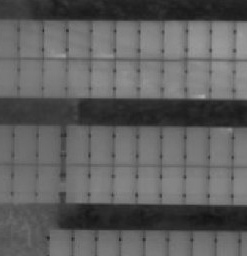solar: (16, 18, 46, 60), (40, 18, 70, 60), (64, 18, 94, 60), (87, 18, 117, 60), (111, 18, 141, 60), (136, 18, 166, 60), (160, 18, 190, 60), (183, 19, 213, 61), (207, 19, 237, 61), (207, 58, 237, 100), (183, 58, 213, 100), (159, 57, 189, 99), (135, 56, 165, 98), (112, 56, 142, 98), (88, 56, 118, 98), (63, 56, 93, 98), (39, 56, 69, 98), (15, 56, 45, 98), (10, 123, 40, 165), (33, 124, 63, 166), (63, 124, 93, 166), (86, 124, 116, 166), (110, 124, 140, 166), (134, 124, 164, 166), (159, 124, 189, 166), (182, 124, 212, 166), (205, 125, 235, 167), (205, 163, 235, 205), (181, 163, 211, 205), (157, 163, 187, 205), (134, 162, 164, 204), (108, 162, 138, 204), (87, 162, 117, 204), (62, 162, 92, 204), (10, 161, 40, 203), (34, 161, 64, 203)
